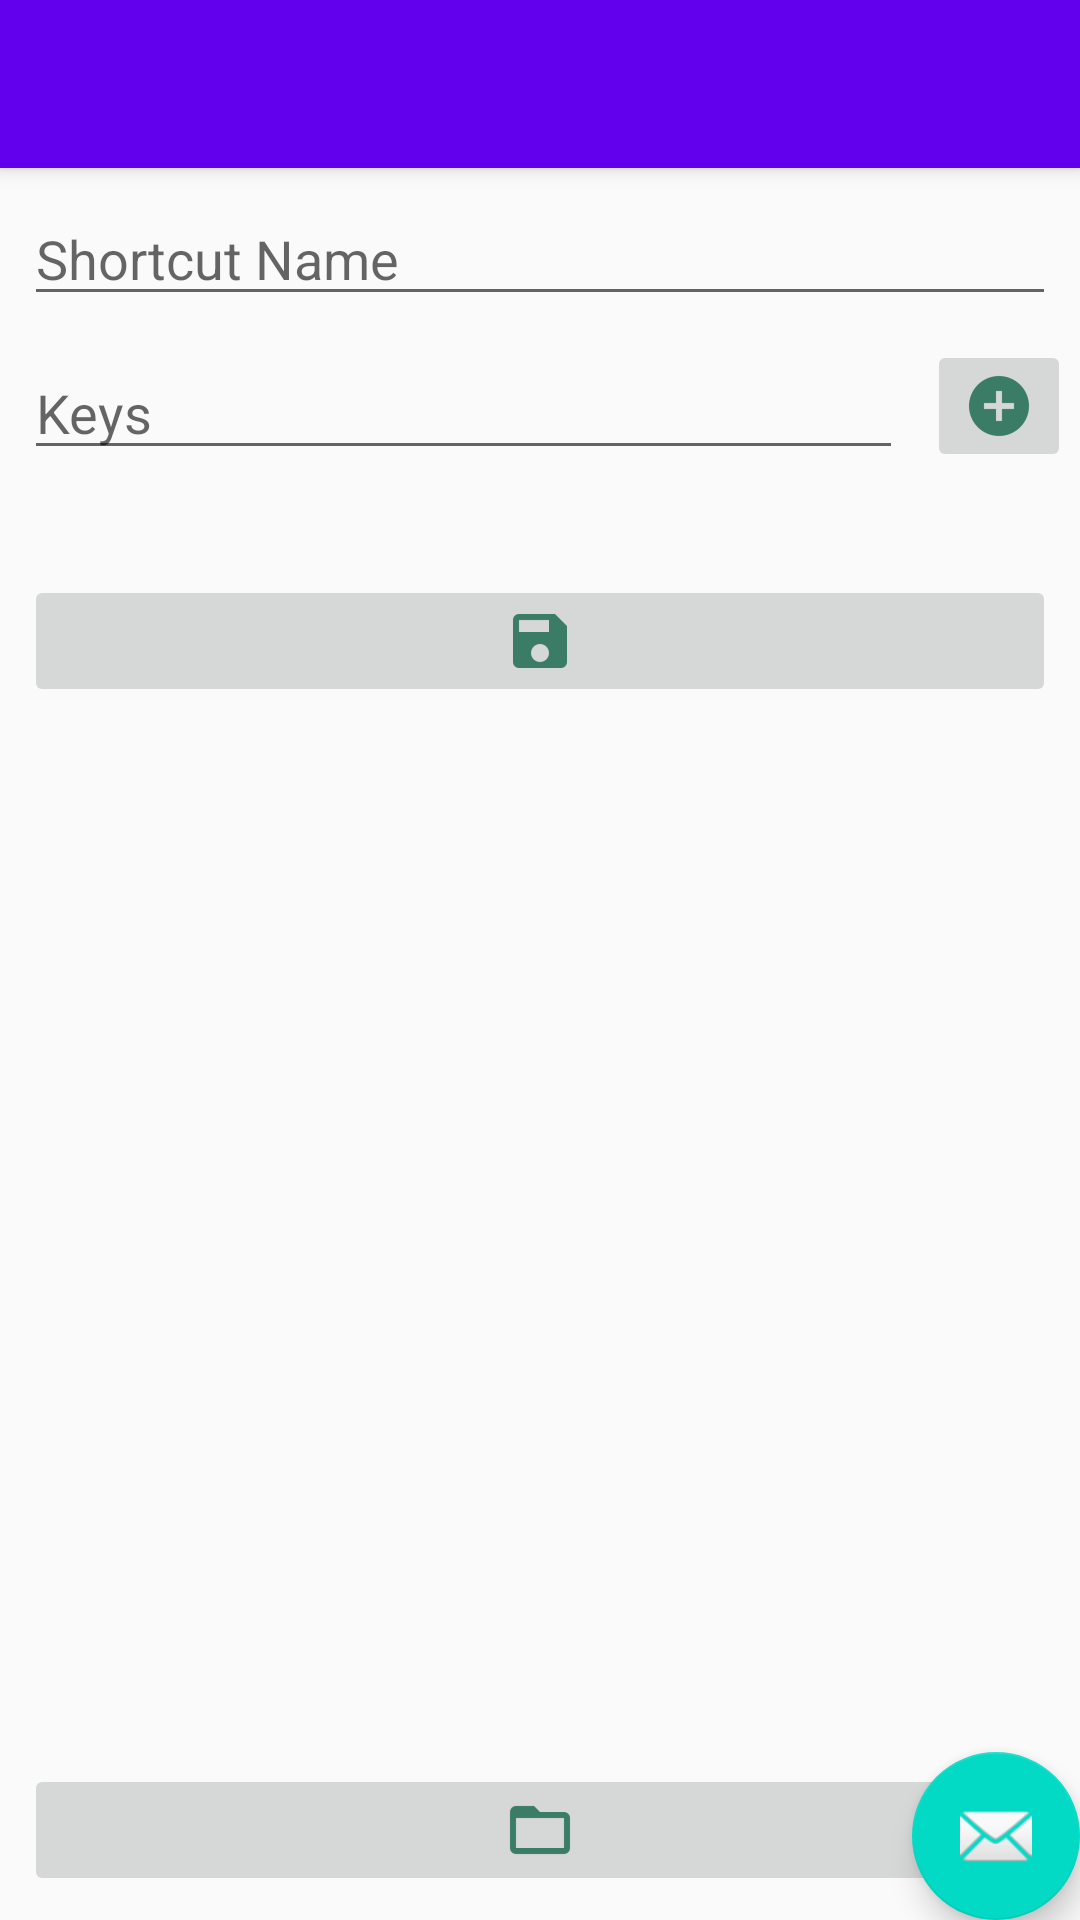

Locate icon controls on the screen. Image size 1080 x 1920, boxes as detection(x1, y1, x2, y2).
add: detection(939, 358, 1059, 454)
